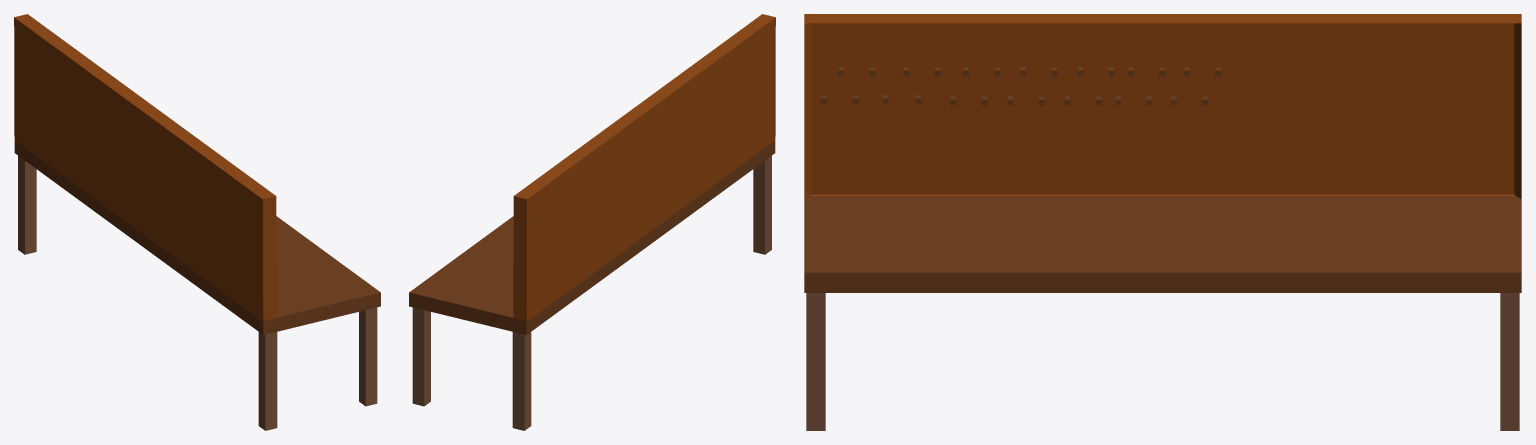
The model's file is WorkBench.fbx.
3 renders of one model, left to right at view 1: azimuth 30°, elevation 25°; view 2: azimuth 150°, elevation 25°; view 3: azimuth 270°, elevation 25°, orthographic. The views are drawn at different scales.
Visible parts, largest first — view 1: Cube.001, Cube, Cube.002; view 2: Cube.001, Cube, Cube.002; view 3: Cube.001, Cube, Cube.002, Pegs.
Boxes of the visible parts, left/top/right/bottom form: Cube.001: left=14, top=14, right=276, bottom=321; Cube: left=14, top=140, right=380, bottom=334; Cube.002: left=18, top=156, right=377, bottom=430; Cube.001: left=513, top=14, right=775, bottom=321; Cube: left=409, top=140, right=775, bottom=334; Cube.002: left=412, top=156, right=771, bottom=430; Cube.001: left=804, top=14, right=1521, bottom=198; Cube: left=804, top=196, right=1521, bottom=292; Cube.002: left=806, top=293, right=1519, bottom=430; Pegs: left=820, top=67, right=1220, bottom=105.
Size of the model in its own units: 418 by 789 by 1527.
